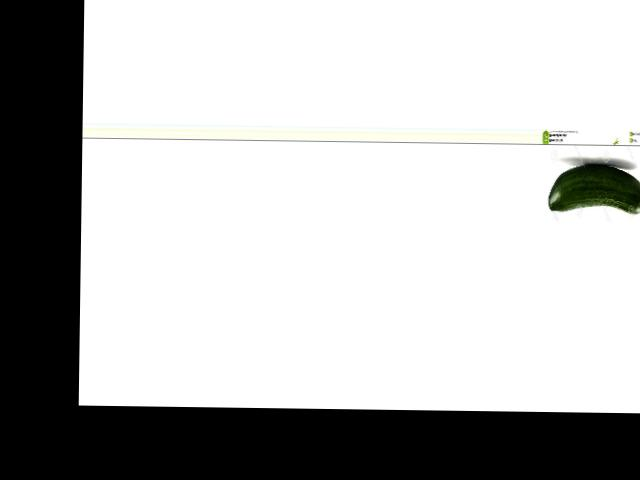cucumber: (549, 163, 640, 212)
